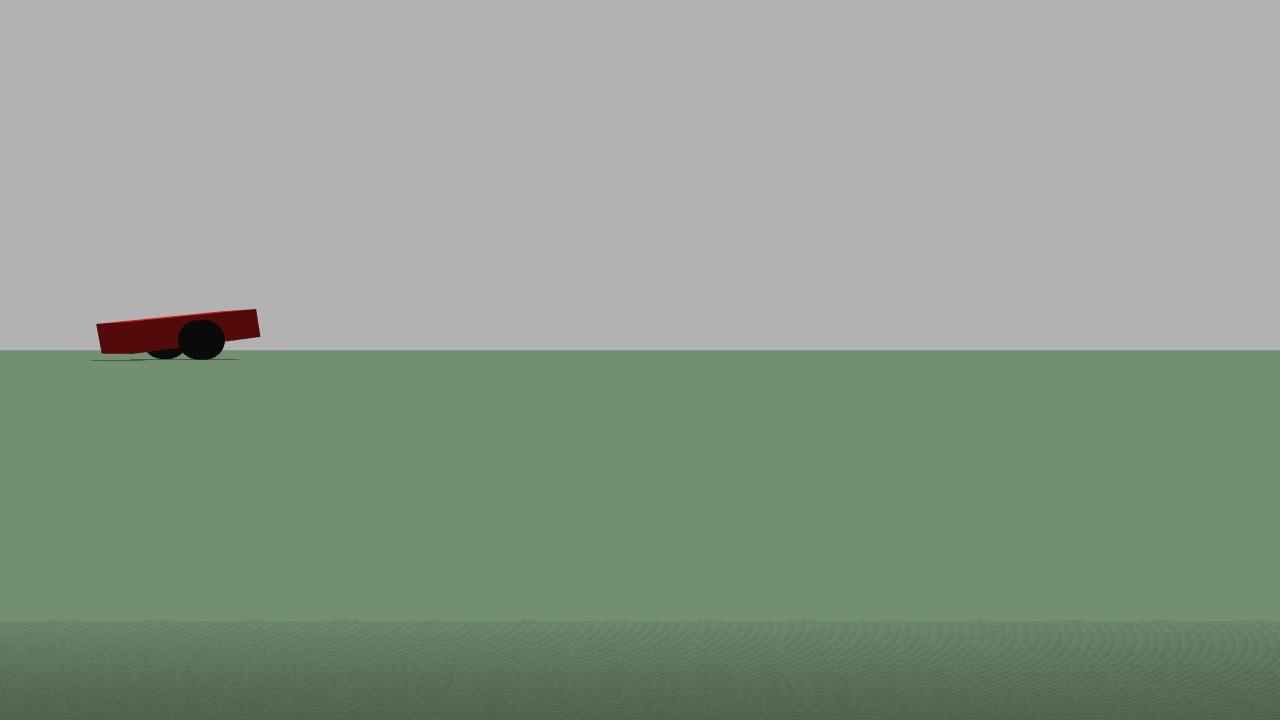ground_vehicle: (81, 304, 270, 365)
